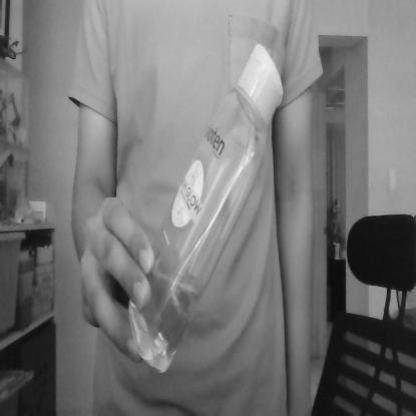Plastic Bottle: (132, 38, 286, 379)
